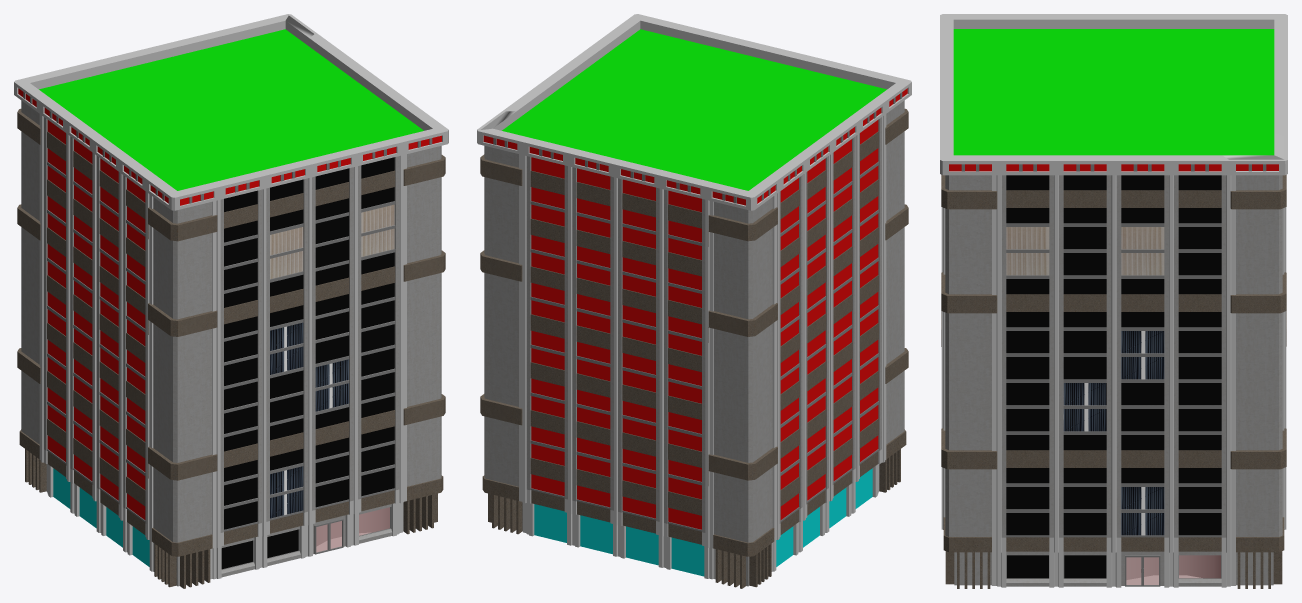
The model's file is Building01_D.fbx.
3 views of the same model, side by side, from view 1: azimuth 30°, elevation 25°; view 2: azimuth 150°, elevation 25°; view 3: azimuth 270°, elevation 25° (orthographic). The views are drawn at different scales.
Parts seen in each view (by area): view 1: Building01_D; view 2: Building01_D; view 3: Building01_D.
Part boxes in pixels (x1,y1,x2,y2): Building01_D: (14,14,448,588); Building01_D: (477,14,911,588); Building01_D: (940,14,1287,588).
Bounding box in the file's own units: 3638 × 4963 × 3638.
